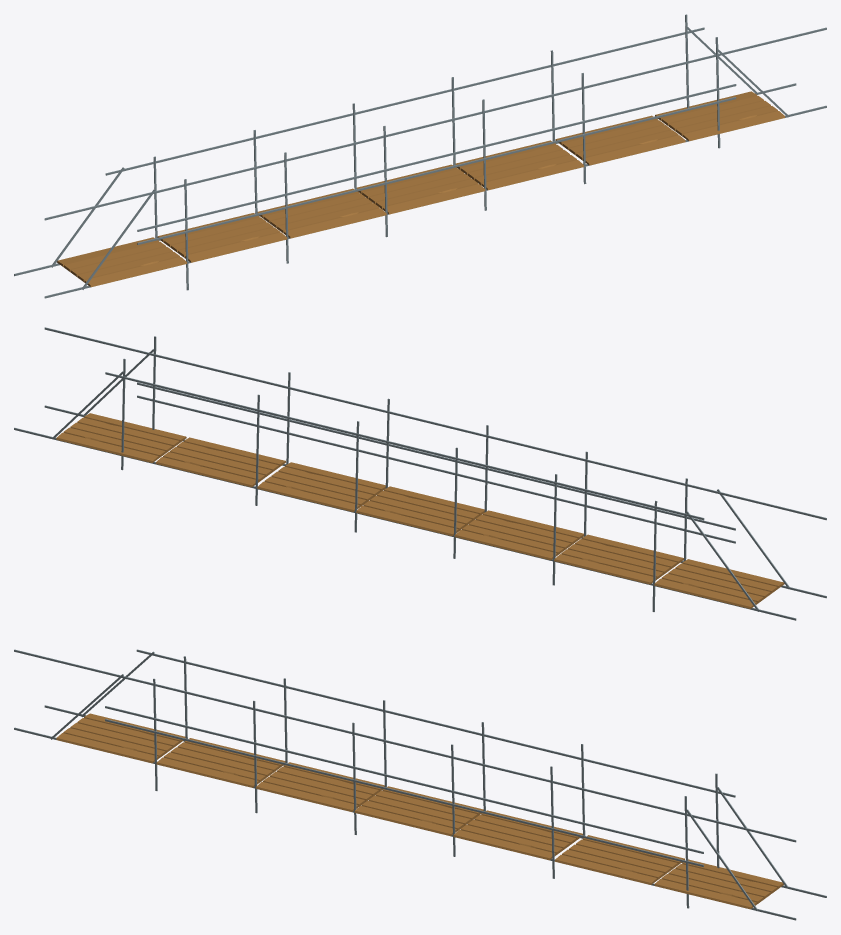
The picture shows the model from 3 angles, top to bottom: view 1: azimuth 30°, elevation 25°; view 2: azimuth 150°, elevation 25°; view 3: azimuth 330°, elevation 25°; orthographic projection.
Parts seen in each view (by area): view 1: Куб_22; view 2: Куб_22; view 3: Куб_22.
Part boxes in pixels (x1,y1,x2,y2): Куб_22: [14, 14, 826, 298]; Куб_22: [14, 327, 826, 620]; Куб_22: [14, 649, 826, 920].
Size of the model in its own units: 3249 by 491 by 247.
Materials: 2 (1 with a texture image).
